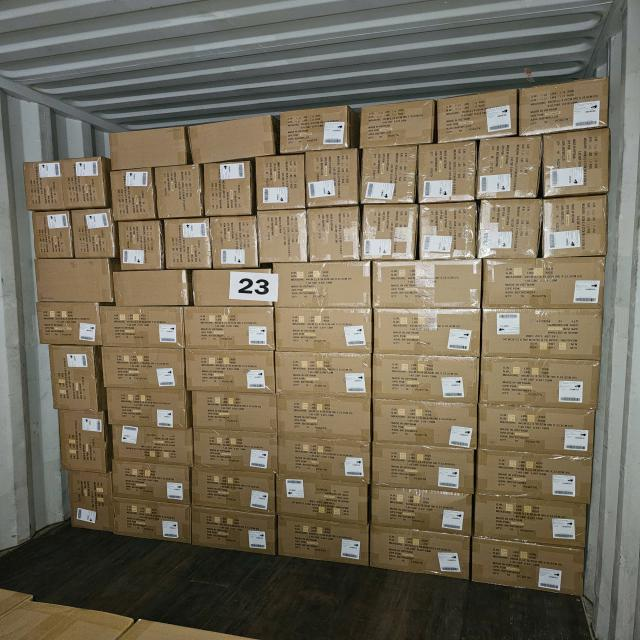Carton: (474, 448, 594, 504), (367, 395, 482, 452), (471, 540, 585, 597), (368, 480, 478, 539), (481, 357, 602, 410), (367, 439, 479, 496), (476, 406, 596, 459), (486, 258, 610, 309), (368, 352, 482, 407), (484, 310, 604, 362), (478, 494, 588, 549), (270, 432, 372, 486), (375, 261, 487, 310), (272, 348, 376, 400), (272, 392, 374, 444), (369, 530, 472, 581), (520, 83, 610, 140), (374, 312, 483, 358), (190, 470, 274, 528), (543, 134, 611, 201), (273, 262, 372, 308), (280, 520, 372, 568), (273, 312, 372, 356), (183, 308, 276, 353), (478, 136, 543, 200), (190, 115, 274, 164), (183, 350, 276, 394), (191, 510, 276, 558), (542, 196, 609, 256), (439, 91, 517, 142), (274, 478, 368, 520), (101, 346, 188, 391), (478, 200, 543, 259), (190, 429, 277, 472), (417, 145, 477, 207), (99, 309, 185, 352), (356, 102, 433, 148), (416, 201, 477, 259), (110, 501, 191, 544), (35, 259, 113, 303), (190, 393, 278, 432), (111, 126, 188, 170), (282, 106, 353, 153), (362, 146, 419, 204), (107, 392, 195, 429), (362, 204, 420, 260), (49, 344, 98, 410), (110, 465, 190, 505), (307, 153, 361, 211), (190, 269, 272, 306), (58, 409, 107, 470), (308, 205, 362, 260), (65, 472, 111, 535), (36, 304, 100, 348), (256, 157, 306, 213), (204, 163, 254, 218), (58, 156, 106, 212), (257, 209, 307, 262), (115, 270, 188, 306), (157, 168, 206, 221), (209, 216, 257, 269), (111, 168, 157, 220), (167, 218, 213, 269), (72, 210, 117, 260), (119, 219, 163, 269), (24, 163, 65, 212), (33, 211, 74, 257)
